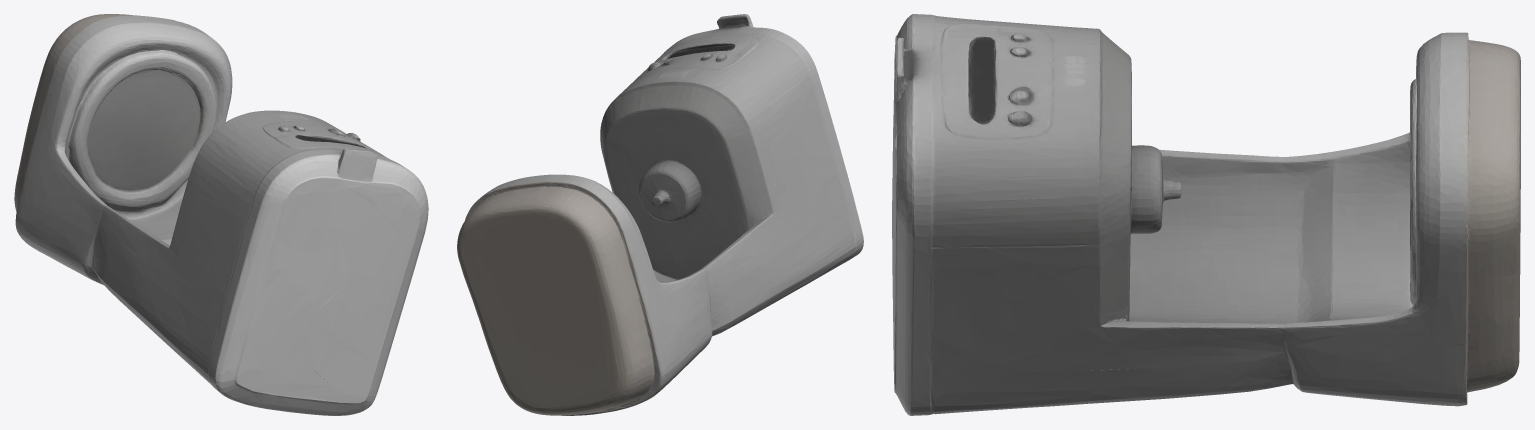
3 renders of one model, left to right at view 1: azimuth 30°, elevation 25°; view 2: azimuth 150°, elevation 25°; view 3: azimuth 270°, elevation 25°, orthographic. The views are drawn at different scales.
Parts seen in each view (by area): view 1: geometry_0; view 2: geometry_0; view 3: geometry_0.
Boxes of the visible parts, x1=… form: geometry_0: x1=14, y1=14, x2=428, y2=415; geometry_0: x1=457, y1=14, x2=863, y2=415; geometry_0: x1=892, y1=14, x2=1520, y2=415.
Bounding box in the file's own units: 0.1915 × 0.2311 × 0.3612.
Materials: 1 (1 with a texture image).
